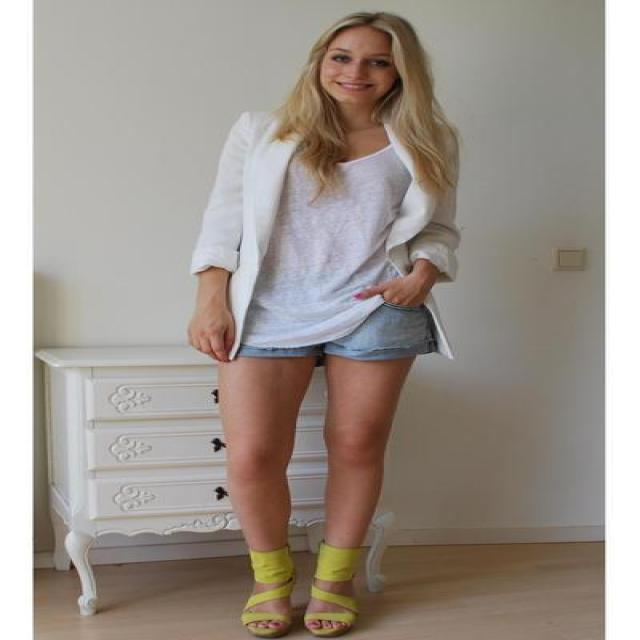jacket: (190, 116, 458, 355)
shirt: (253, 140, 427, 347)
shoe: (237, 535, 384, 639)
shorts: (238, 294, 438, 376)
